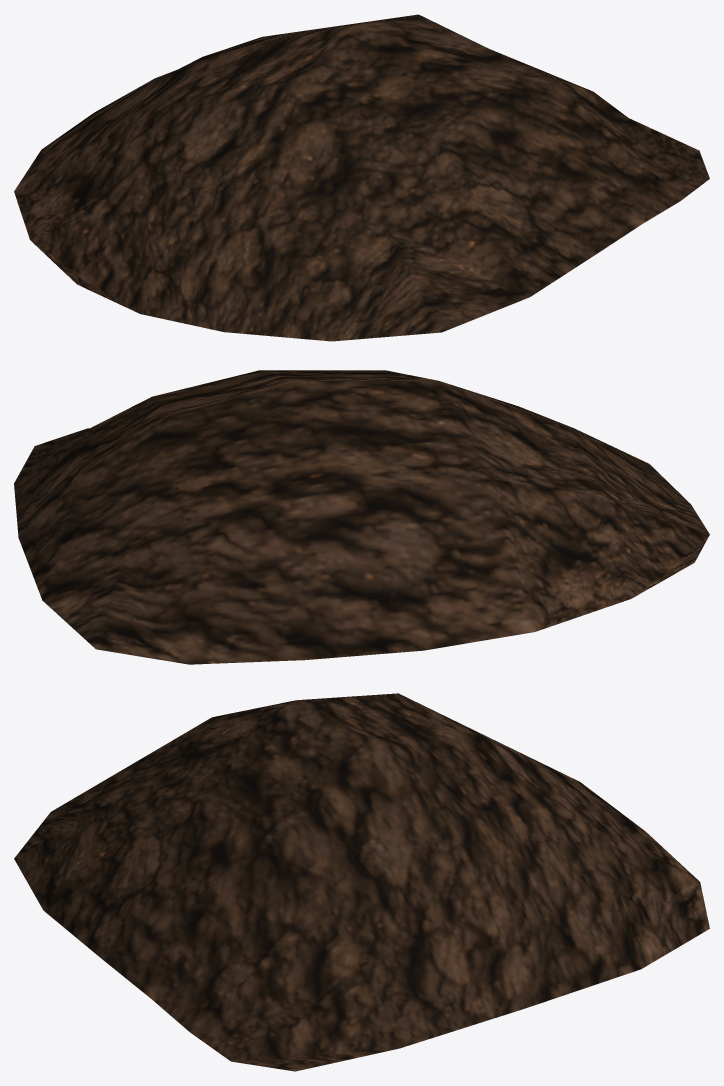
3 views of the same model, one above another, from view 1: azimuth 30°, elevation 25°; view 2: azimuth 150°, elevation 25°; view 3: azimuth 270°, elevation 25° (orthographic). The views are drawn at different scales.
Parts seen in each view (by area): view 1: Plane032_atlas_granja_0; view 2: Plane032_atlas_granja_0; view 3: Plane032_atlas_granja_0.
Boxes of the visible parts, x1,y1,x2,y2 form: Plane032_atlas_granja_0: (14,14,709,341); Plane032_atlas_granja_0: (14,370,709,664); Plane032_atlas_granja_0: (14,693,709,1071).
Bounding box in the file's own units: 3.3 × 0.8347 × 3.03.
1 material, 1 textured.
